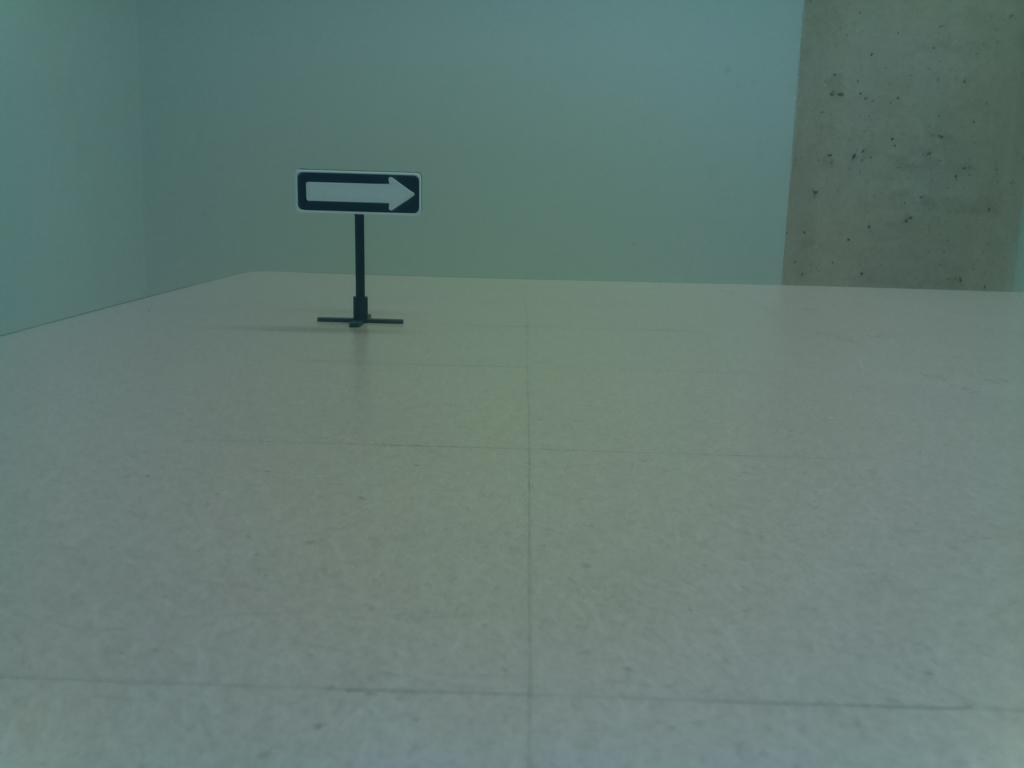sign_oneway_right: (289, 164, 428, 221)
